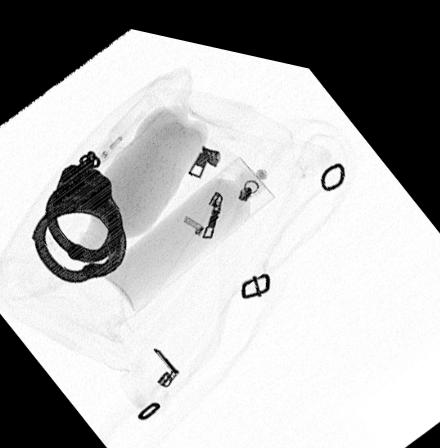HandCuffs: (31, 143, 129, 282)
